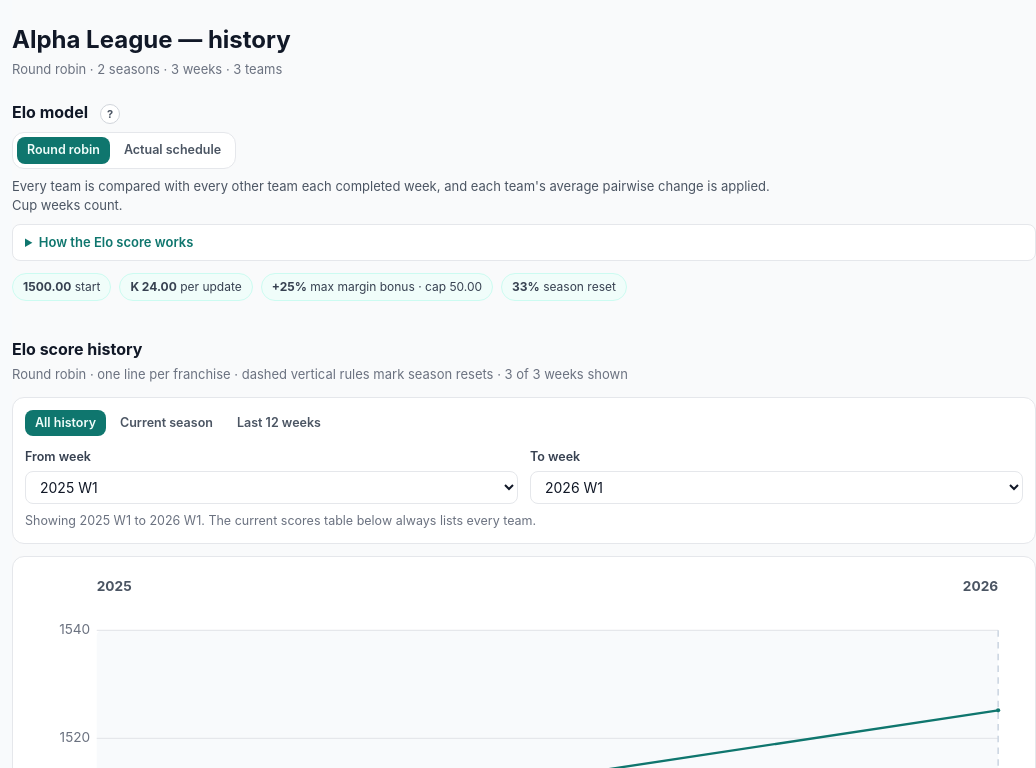
Test: HistoryPage › filters the chart to a week range without losing the current table
The image size is (1036, 768).
Step 1. Select "2025 W1" in the dropdown labelled "From week" → (272, 488), box x1=25 y1=471 x2=518 y2=504
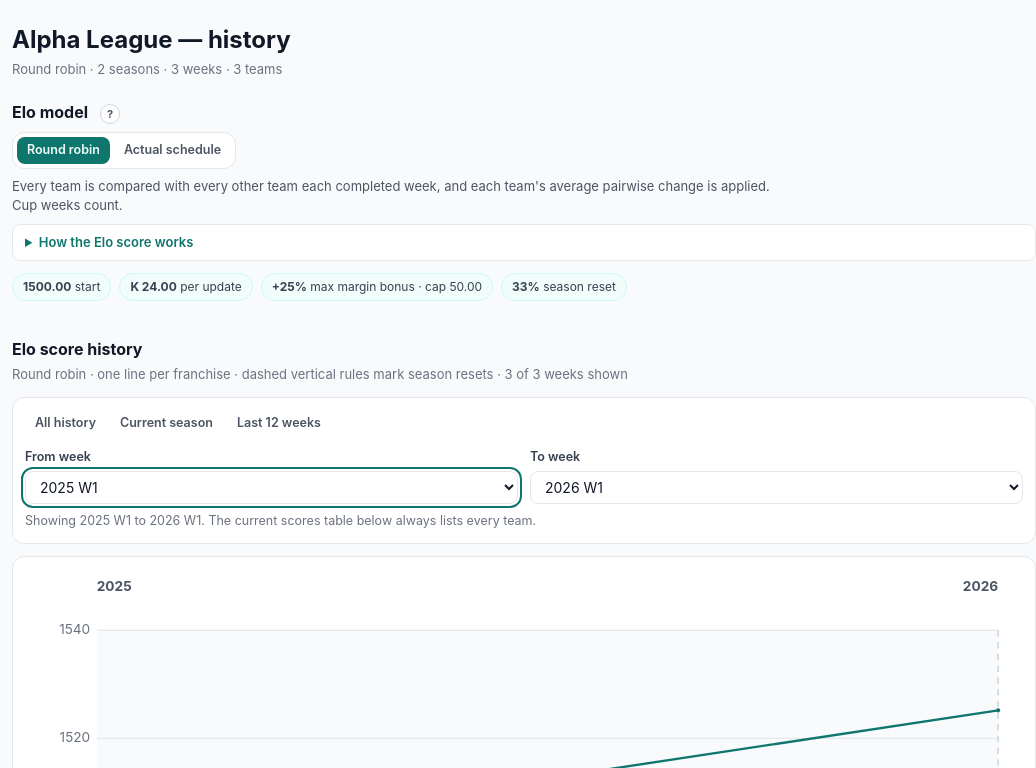
Step 2. Select "2025 W2" in the dropdown labelled "To week" → (776, 488), box x1=530 y1=471 x2=1023 y2=504
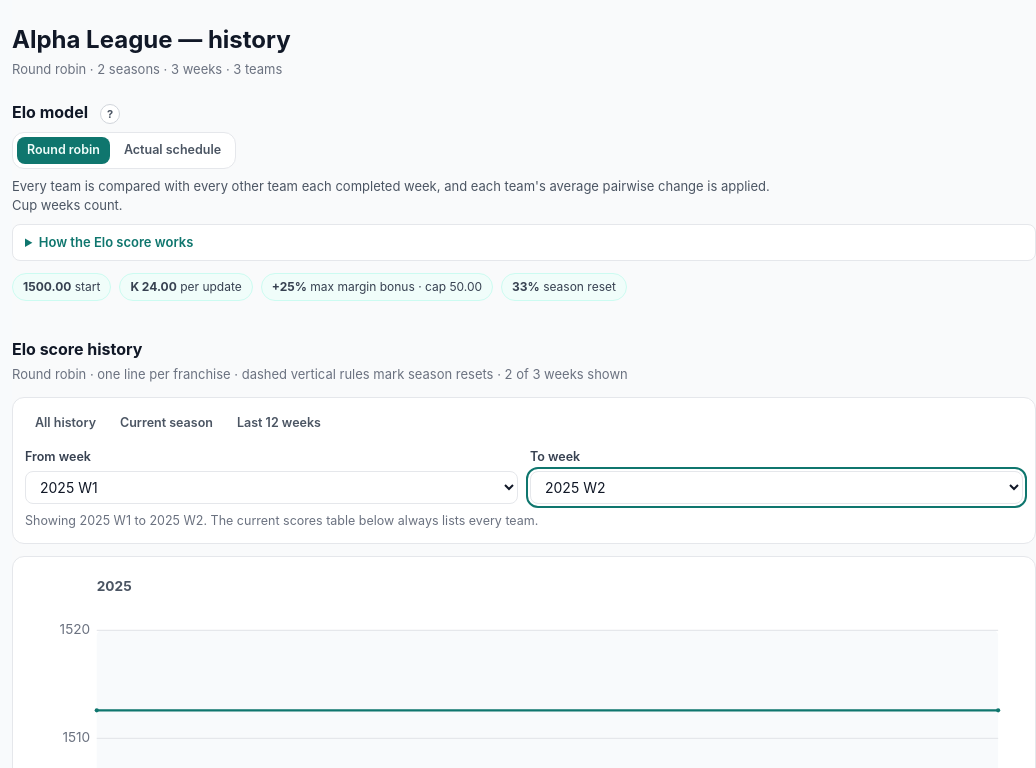
Now the text "Showing 2025 W1 to 2025 W2." is shown, box x1=25 y1=513 x2=207 y2=528
